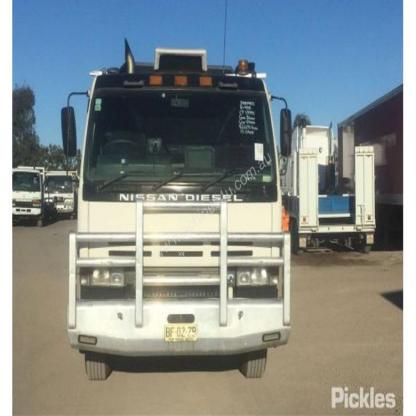dump_truck: (56, 49, 294, 393)
